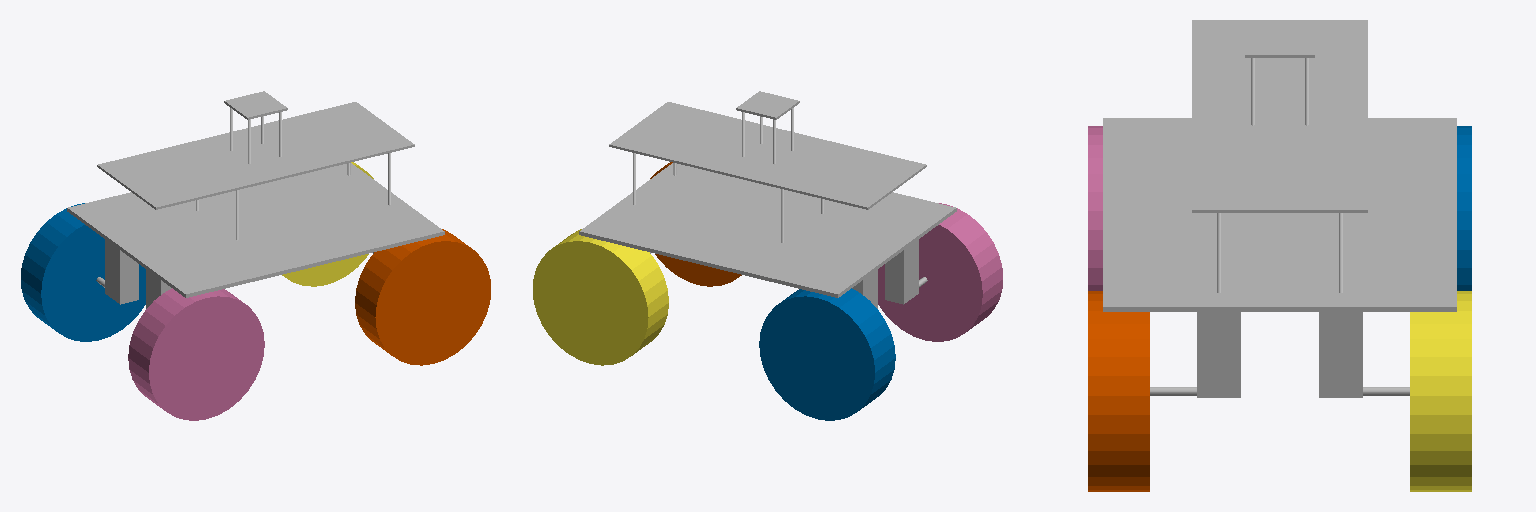
URDF robot description (multipleshapes):
<?xml version="1.0"?>
<robot name="multipleshapes">
  <link name="base_link">
    <visual>
      <geometry>
        <box size="0.09 0.09 0.005"/>
      </geometry>
      <material name="silver">
        <color rgba="0.75 0.75 0.75 1"/>
      </material>
    </visual>
    <collision>
      <geometry>
        <box size = "0.0945 0.0945 0.0075"/>
      </geometry>
    </collision>
  </link>

  <link name="leg_2-1">
    <visual>
      <geometry>
        <cylinder length="0.1" radius="0.003"/>
      </geometry>
      <material name="metal">
        <color rgba="1 1 1 1"/>
      </material>
      <origin rpy="0 0 0" xyz="0 0 -0.05"/>
    </visual>
    <collision>
      <geometry>
        <cylinder length="0.1" radius="0.00315"/>
      </geometry>
    </collision>
  </link>

  <joint name="base_to_leg_2-1" type="fixed">
    <parent link="base_link"/>
    <child link="leg_2-1"/>
    <origin rpy="0 0 0" xyz="0.035 0.035 -0.0025"/>
  </joint>

  <link name="leg_2-2">
    <visual>
      <geometry>
        <cylinder length="0.1" radius="0.003"/>
      </geometry>
      <material name="metal">
        <color rgba="1 1 1 1"/>
      </material>
      <origin rpy="0 0 0" xyz="0 0 -0.05"/>
    </visual>
    <collision>
      <geometry>
        <cylinder length="0.1" radius="0.00315"/>
      </geometry>
    </collision>
  </link>

  <joint name="base_to_leg_2-2" type="fixed">
    <parent link="base_link"/>
    <child link="leg_2-2"/>
    <origin rpy="0 0 0" xyz="0.035 -0.035 -0.0025"/>
  </joint>

  <link name="leg_2-3">
    <visual>
      <geometry>
        <cylinder length="0.1" radius="0.003"/>
      </geometry>
      <material name="metal">
        <color rgba="1 1 1 1"/>
      </material>
      <origin rpy="0 0 0" xyz="0 0 -0.05"/>
    </visual>
    <collision>
      <geometry>
        <cylinder length="0.1" radius="0.00315"/>
      </geometry>
    </collision>
  </link>

  <joint name="base_to_leg_2-3" type="fixed">
    <parent link="base_link"/>
    <child link="leg_2-3"/>
    <origin rpy="0 0 0" xyz="-0.035 0.035 -0.0025"/>
  </joint>

  <link name="leg_2-4">
    <visual>
      <geometry>
        <cylinder length="0.1" radius="0.003"/>
      </geometry>
      <material name="metal">
        <color rgba="1 1 1 1"/>
      </material>
      <origin rpy="0 0 0" xyz="0 0 -0.05"/>
    </visual>
    <collision>
      <geometry>
        <cylinder length="0.1" radius="0.00315"/>
      </geometry>
    </collision>
  </link>

  <joint name="base_to_leg_2-4" type="fixed">
    <parent link="base_link"/>
    <child link="leg_2-4"/>
    <origin rpy="0 0 0" xyz="-0.035 -0.035 -0.0025"/>
  </joint>


  <link name="2nd_floor">
   <visual>
     <geometry>
       <box size="0.580 0.228 0.005"/>
     </geometry>
     <material name="silver">
       <color rgba="0.75 0.75 0.75 1"/>
     </material>
     <origin rpy="0 0 0" xyz="-0.000 -0.000 -0.0025"/>
   </visual>
   <collision>
     <geometry>
       <box size="0.061 0.24 0.0075"/>
     </geometry>
   </collision>
 </link>

 <joint name="2nd_floor_to_leg_2-1" type="fixed">
   <parent link="leg_2-1"/>
   <child link="2nd_floor"/>
   <origin rpy="0 0 0" xyz="-0.035 -0.035 -0.1025"/>
 </joint>

 <link name="leg_1-1">
   <visual>
     <geometry>
       <cylinder length="0.13" radius="0.003"/>
     </geometry>
     <material name="metal">
       <color rgba="1 1 1 1"/>
     </material>
     <origin rpy="0 0 0" xyz="0 0 -0.065"/>
   </visual>
   <collision>
     <geometry>
       <cylinder length="0.13" radius="0.00315"/>
     </geometry>
   </collision>
 </link>

 <joint name="2nd_floor_to_leg_1-1" type="fixed">
   <parent link="2nd_floor"/>
   <child link="leg_1-1"/>
   <origin rpy="0 0 0" xyz="0.254 0.079 -0.005"/>
 </joint>

 <link name="leg_1-2">
   <visual>
     <geometry>
       <cylinder length="0.13" radius="0.003"/>
     </geometry>
     <material name="metal">
       <color rgba="1 1 1 1"/>
     </material>
     <origin rpy="0 0 0" xyz="0 0 -0.065"/>
   </visual>
   <collision>
     <geometry>
       <cylinder length="0.13" radius="0.00315"/>
     </geometry>
   </collision>
 </link>

 <joint name="2nd_floor_to_leg_1-2" type="fixed">
   <parent link="2nd_floor"/>
   <child link="leg_1-2"/>
   <origin rpy="0 0 0" xyz="0.254 -0.079 -0.005"/>
 </joint>

 <link name="leg_1-4">
   <visual>
     <geometry>
       <cylinder length="0.13" radius="0.003"/>
     </geometry>
     <material name="metal">
       <color rgba="1 1 1 1"/>
     </material>
     <origin rpy="0 0 0" xyz="0 0 -0.065"/>
   </visual>
   <collision>
     <geometry>
       <cylinder length="0.13" radius="0.00315"/>
     </geometry>
   </collision>
 </link>

 <joint name="2nd_floor_to_leg_1-4" type="fixed">
   <origin rpy="0 0 0" xyz="-0.0825 -0.070 -0.005"/>
   <parent link="2nd_floor"/>
   <child link="leg_1-4"/>

 </joint>

 <link name="leg_1-3">
   <visual>
     <geometry>
       <cylinder length="0.13" radius="0.003"/>
     </geometry>
     <material name="metal">
       <color rgba="1 1 1 1"/>
     </material>
     <origin rpy="0 0 0" xyz="0 0 -0.065"/>
   </visual>
   <collision>
     <geometry>
       <cylinder length="0.13" radius="0.00315"/>
     </geometry>
   </collision>
 </link>

 <joint name="2nd_floor_to_leg_1-3" type="fixed">
   <parent link="2nd_floor"/>
   <child link="leg_1-3"/>
   <origin rpy="0 0 0" xyz="-0.0825 0.085 -0.005"/>
 </joint>

 <link name="1st_floor">
  <visual>
    <geometry>
      <box size="0.580 0.460 0.008"/>
    </geometry>
    <material name="silver">
      <color rgba="0.75 0.75 0.75 1"/>
    </material>
    <origin rpy="0 0 0" xyz="-0.000 -0.000 -0.004"/>
  </visual>
  <collision>
    <geometry>
      <box size="0.75 0.483 0.0084"/>
    </geometry>
  </collision>
  <inertial>
    <mass value="34.6"/>
    <inertia ixx="0.610113" iyy="0.969953" izz="1.5801"
             ixy="0" ixz="0" iyz="0"/>
  </inertial>
 </link>

 <joint name="1st_floor_to_leg_1-1" type="fixed">
   <parent link="leg_1-1"/>
   <child link="1st_floor"/>
   <origin rpy="0 0 0" xyz="-0.254 -0.079 -0.134"/>
 </joint>

 <link name="leg_LF">
  <visual>
    <geometry>
      <box size="0.043 0.058 0.130"/>
    </geometry>
    <material name="silver">
      <color rgba="0.75 0.75 0.75 1"/>
    </material>
    <origin rpy="0 0 0" xyz="-0.000 -0.000 -0.065"/>
  </visual>
  <collision>
    <geometry>
      <box size="0.0452 0.061 0.1365"/>
    </geometry>
  </collision>
 </link>

 <joint name="1st_floor_to_leg_LF" type="fixed">
   <parent link="1st_floor"/>
   <child link="leg_LF"/>
  <origin rpy="0 0 0" xyz="0.254 0.079 -0.008"/>
 </joint>

 <link name="leg_RF">
   <visual>
     <geometry>
       <box size="0.043 0.058 0.130"/>
     </geometry>
     <material name="silver">
       <color rgba="0.75 0.75 0.75 1"/>
     </material>
     <origin rpy="0 0 0" xyz="0 0 -0.065"/>
   </visual>
   <collision>
     <geometry>
       <box size="0.0452 0.061 0.1365"/>
     </geometry>
   </collision>
 </link>

 <joint name="1s_floor_to_leg_RF" type="fixed">
   <parent link="1st_floor"/>
   <child link="leg_RF"/>
   <origin rpy="0 0 0" xyz="0.254 -0.079 -0.008"/>
 </joint>

 <link name="leg_LB">
   <visual>
     <geometry>
       <box size="0.043 0.058 0.130"/>
     </geometry>
     <material name="silver">
       <color rgba="0.75 0.75 0.75 1"/>
     </material>
     <origin rpy="0 0 0" xyz="0 0 -0.065"/>
   </visual>
   <collision>
     <geometry>
       <box size="0.0452 0.061 0.1365"/>
     </geometry>
   </collision>
 </link>

 <joint name="1s_floor_to_leg_LB" type="fixed">
   <parent link="1st_floor"/>
   <child link="leg_LB"/>
   <origin rpy="0 0 0" xyz="-0.254 0.079 -0.008"/>
 </joint>

 <link name="leg_RB">
   <visual>
     <geometry>
       <box size="0.043 0.058 0.130"/>
     </geometry>
     <material name="silver">
       <color rgba="0.75 0.75 0.75 1"/>
     </material>
     <origin rpy="0 0 0" xyz="0 0 -0.065"/>
   </visual>
   <collision>
     <geometry>
       <box size="0.0452 0.061 0.1365"/>
     </geometry>
   </collision>
 </link>

 <joint name="1s_floor_to_leg_RB" type="fixed">
   <parent link="1st_floor"/>
   <child link="leg_RB"/>
   <origin rpy="0 0 0" xyz="-0.254 -0.079 -0.008"/>
 </joint>

 <link name="shaft_LF">
   <visual>
     <geometry>
       <cylinder length="0.120" radius="0.006"/>
     </geometry>
     <material name="silver">
       <color rgba="0.75 0.75 0.75 1"/>
     </material>
     <origin rpy="0 0 0" xyz="0.000 0.000 0.060"/>
   </visual>
   <collision>
     <geometry>
       <cylinder length="0.120" radius="0.0063"/>
     </geometry>
   </collision>
 </link>

 <joint name="leg_LF_to_shaft_LF" type="continuous">
   <parent link="leg_LF"/>
   <child link="shaft_LF"/>
   <origin rpy="-1.5708 0 0" xyz="0.000 0.000 -0.130"/>
   <axis xyz="0 0 1"/>
 </joint>

 <link name="shaft_LB">
   <visual>
     <geometry>
       <cylinder length="0.120" radius="0.006"/>
     </geometry>
     <material name="silver">
       <color rgba="0.75 0.75 0.75 1"/>
     </material>
     <origin rpy="0 0 0" xyz="0.000 0.000 0.060"/>
   </visual>
   <collision>
     <geometry>
       <cylinder length="0.120" radius="0.0063"/>
     </geometry>
   </collision>
 </link>

 <joint name="leg_LB_to_shaft_LB" type="continuous">
   <parent link="leg_LB"/>
   <child link="shaft_LB"/>
   <origin rpy="-1.5708 0 0" xyz="0.000 0.000 -0.130"/>
   <axis xyz="0 0 1"/>
 </joint>

 <link name="shaft_RF">
   <visual>
     <geometry>
       <cylinder length="0.120" radius="0.006"/>
     </geometry>
     <material name="silver">
       <color rgba="0.75 0.75 0.75 1"/>
     </material>
     <origin rpy="0 0 0" xyz="0.000 0.000 -0.060"/>
   </visual>
   <collision>
     <geometry>
       <cylinder length="0.120" radius="0.0063"/>
     </geometry>
   </collision>
 </link>

 <joint name="leg_RF_to_shaft_RF" type="continuous">
   <parent link="leg_RF"/>
   <child link="shaft_RF"/>
   <origin rpy="-1.5708 0 0" xyz="0.000 0.000 -0.130"/>
   <axis xyz="0 0 1"/>
 </joint>

 <link name="shaft_RB">
   <visual>
     <geometry>
       <cylinder length="0.120" radius="0.006"/>
     </geometry>
     <material name="silver">
       <color rgba="0.75 0.75 0.75 1"/>
     </material>
     <origin rpy="0 0 0" xyz="0.000 0.000 -0.060"/>
   </visual>
   <collision>
     <geometry>
       <cylinder length="0.120" radius="0.0063"/>
     </geometry>
   </collision>
 </link>

 <joint name="leg_RB_to_shaft_RB" type="continuous">
   <parent link="leg_RB"/>
   <child link="shaft_RB"/>
   <origin rpy="-1.5708 0 0" xyz="0.000 0.000 -0.130"/>
   <axis xyz="0 0 1"/>
 </joint>

 <joint name="shaft_LF_to_wheel_LF" type="fixed">
   <parent link="shaft_LF"/>
   <child link="wheel_LF"/>
   <origin rpy="0 0 0" xyz="0.000 0.000 0.130"/>
   <axis xyz="0 0 1"/>
 </joint>

 <link name="wheel_LF">
   <visual>
     <geometry>
       <cylinder length="0.080" radius="0.130"/>
     </geometry>
     <material name="black"/>
     <origin rpy="0 0 0" xyz="0.000 0.000 0.000"/>
   </visual>
   <inertial>
     <mass value="1.0"/>
     <inertia ixx="0" iyy="0" izz="0.00845"
              ixy="0" ixz="0" iyz="0"/>
   </inertial>
 </link>

 <joint name="shaft_LB_to_wheel_LB" type="fixed">
   <parent link="shaft_LB"/>
   <child link="wheel_LB"/>
   <origin rpy="0 0 0" xyz="0.000 0.000 0.130"/>
   <axis xyz="0 0 1"/>
 </joint>

 <link name="wheel_LB">
   <visual>
     <geometry>
       <cylinder length="0.080" radius="0.130"/>
     </geometry>
     <material name="black"/>
     <origin rpy="0 0 0" xyz="0.000 0.000 0.000"/>
   </visual>
   <inertial>
     <mass value="1.0"/>
     <inertia ixx="0" iyy="0" izz="0.00845"
              ixy="0" ixz="0" iyz="0"/>
   </inertial>
 </link>

 <joint name="shaft_RF_to_wheel_RF" type="fixed">
   <parent link="shaft_RF"/>
   <child link="wheel_RF"/>
   <origin rpy="0 0 0" xyz="0.000 0.000 -0.130"/>
   <axis xyz="0 0 1"/>
 </joint>

 <link name="wheel_RF">
   <visual>
     <geometry>
       <cylinder length="0.080" radius="0.130"/>
     </geometry>
     <material name="black"/>
     <origin rpy="0 0 0" xyz="0.000 0.000 0.000"/>
   </visual>
   <inertial>
     <mass value="1.0"/>
     <inertia ixx="0" iyy="0" izz="0.00845"
              ixy="0" ixz="0" iyz="0"/>
   </inertial>
 </link>

 <joint name="shaft_RB_to_wheel_RB" type="fixed">
   <parent link="shaft_RB"/>
   <child link="wheel_RB"/>
   <origin rpy="0 0 0" xyz="0.000 0.000 -0.130"/>
   <axis xyz="0 0 1"/>
 </joint>

 <link name="wheel_RB">
   <visual>
     <geometry>
       <cylinder length="0.080" radius="0.130"/>
     </geometry>
     <material name="black"/>
     <origin rpy="0 0 0" xyz="0.000 0.000 0.000"/>
   </visual>
   <inertial>
     <mass value="1.0"/>
     <inertia ixx="0" iyy="0" izz="0.00845"
              ixy="0" ixz="0" iyz="0"/>
   </inertial>
 </link>

</robot>

--- Facts derived from the render (not from the file) ---
3 views of the same robot in one strip: view 1: azimuth 30°, elevation 25°; view 2: azimuth 150°, elevation 25°; view 3: azimuth 270°, elevation 25° (orthographic).
Robot: multipleshapes — 23 links, 22 joints (4 continuous, 18 fixed); root link base_link; default pose: every joint at zero.
Links seen in each view (by area): view 1: 1st_floor, 2nd_floor, wheel_RB, wheel_RF, wheel_LB, leg_LB, wheel_LF, base_link; view 2: 1st_floor, 2nd_floor, wheel_LB, wheel_LF, wheel_RB, leg_RB, wheel_RF, base_link; view 3: 1st_floor, 2nd_floor, wheel_LF, wheel_RF, leg_LF, leg_RF, wheel_LB, wheel_RB, base_link.
Link boxes in pixels (x1,y1,x2,y2): 1st_floor: [67, 163, 444, 297]; 2nd_floor: [97, 102, 414, 209]; wheel_RB: [128, 288, 264, 420]; wheel_RF: [355, 229, 490, 365]; wheel_LB: [21, 203, 145, 341]; leg_LB: [105, 239, 138, 304]; wheel_LF: [282, 162, 373, 286]; base_link: [224, 91, 287, 119]; 1st_floor: [579, 163, 956, 297]; 2nd_floor: [609, 102, 926, 209]; wheel_LB: [759, 288, 895, 420]; wheel_LF: [533, 229, 668, 365]; wheel_RB: [878, 203, 1002, 341]; leg_RB: [885, 239, 918, 304]; wheel_RF: [650, 162, 741, 286]; base_link: [736, 91, 799, 119]; 1st_floor: [1103, 118, 1456, 311]; 2nd_floor: [1192, 20, 1367, 212]; wheel_LF: [1410, 291, 1471, 491]; wheel_RF: [1088, 291, 1149, 491]; leg_LF: [1319, 312, 1362, 397]; leg_RF: [1197, 312, 1240, 397]; wheel_LB: [1457, 126, 1471, 290]; wheel_RB: [1088, 126, 1102, 290]; base_link: [1245, 25, 1314, 57].
Size in the robot's own frame: 0.768 by 0.498 by 0.5145 metres.
Geometry: primitives only (box / cylinder / sphere), no mesh files.